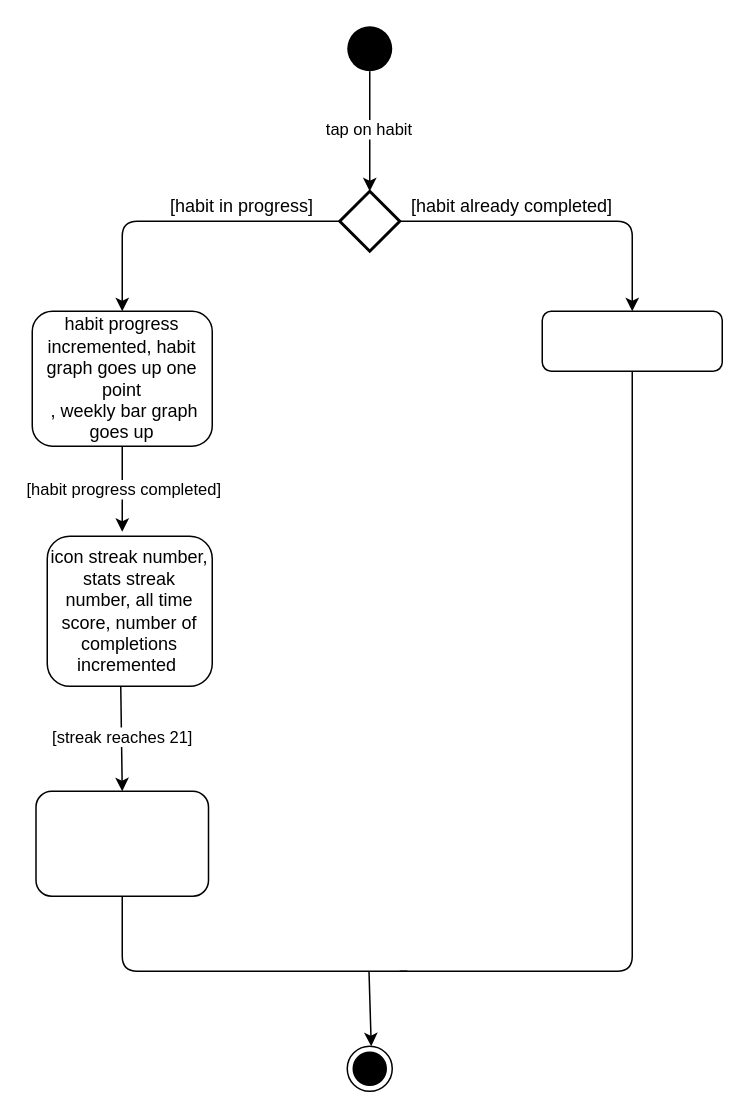
This 749x1118 diagram has some shape labels left out. The centre of each missing label's shape, as x and y in pixels:
"no change" goes at (x=631, y=340).
"streak number turns golden" goes at (x=121, y=843).
